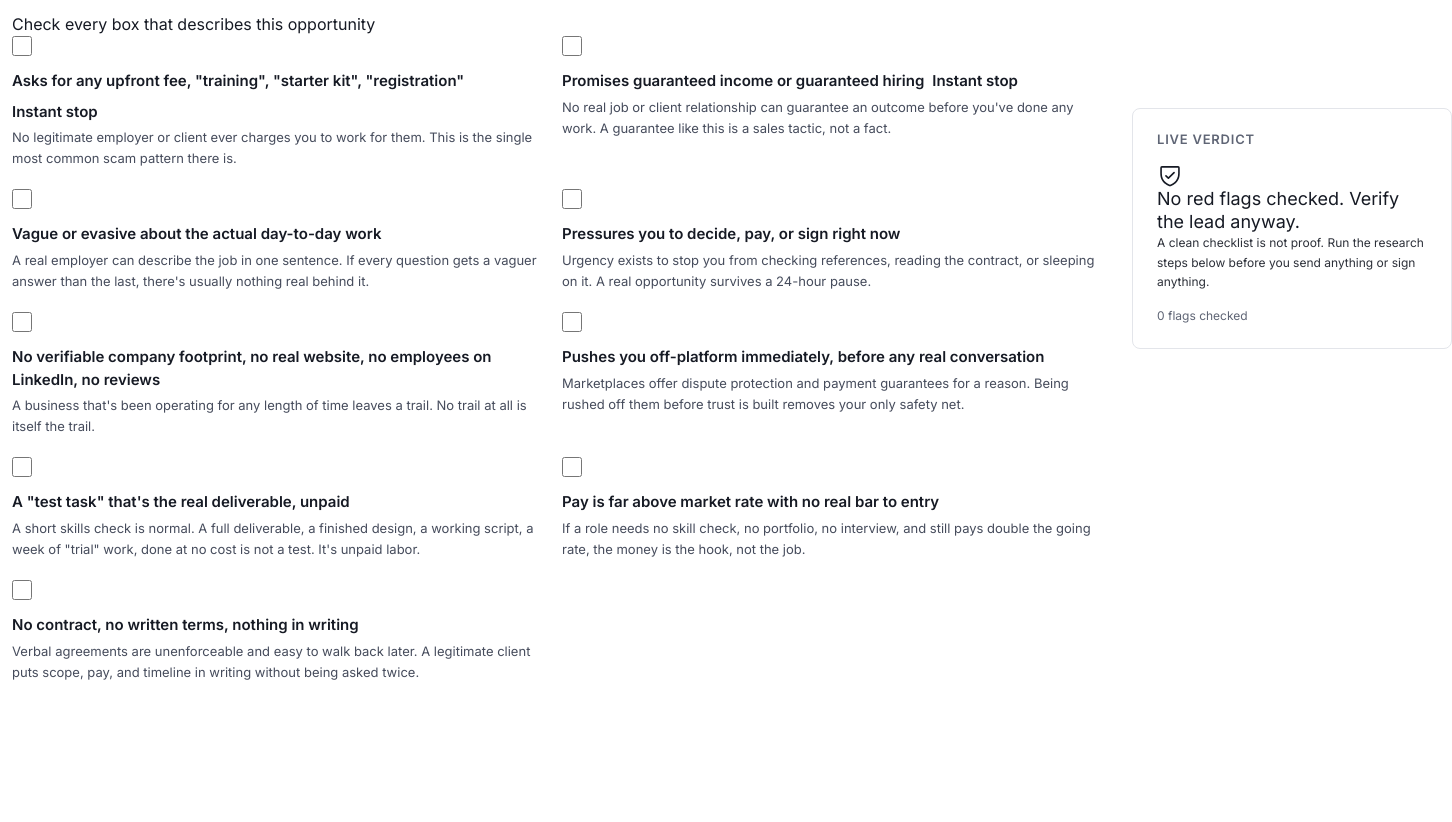
Test: VettingTool › starts clear and turns to a hard stop on an instant-stop flag
This screenshot has width=1452, height=822.
Expected: the text "No red flags checked. Verify the lead anyway." is shown, [1157,188,1427,233]
Click the 1st checkbox at (22, 46), box [12,36,32,56]
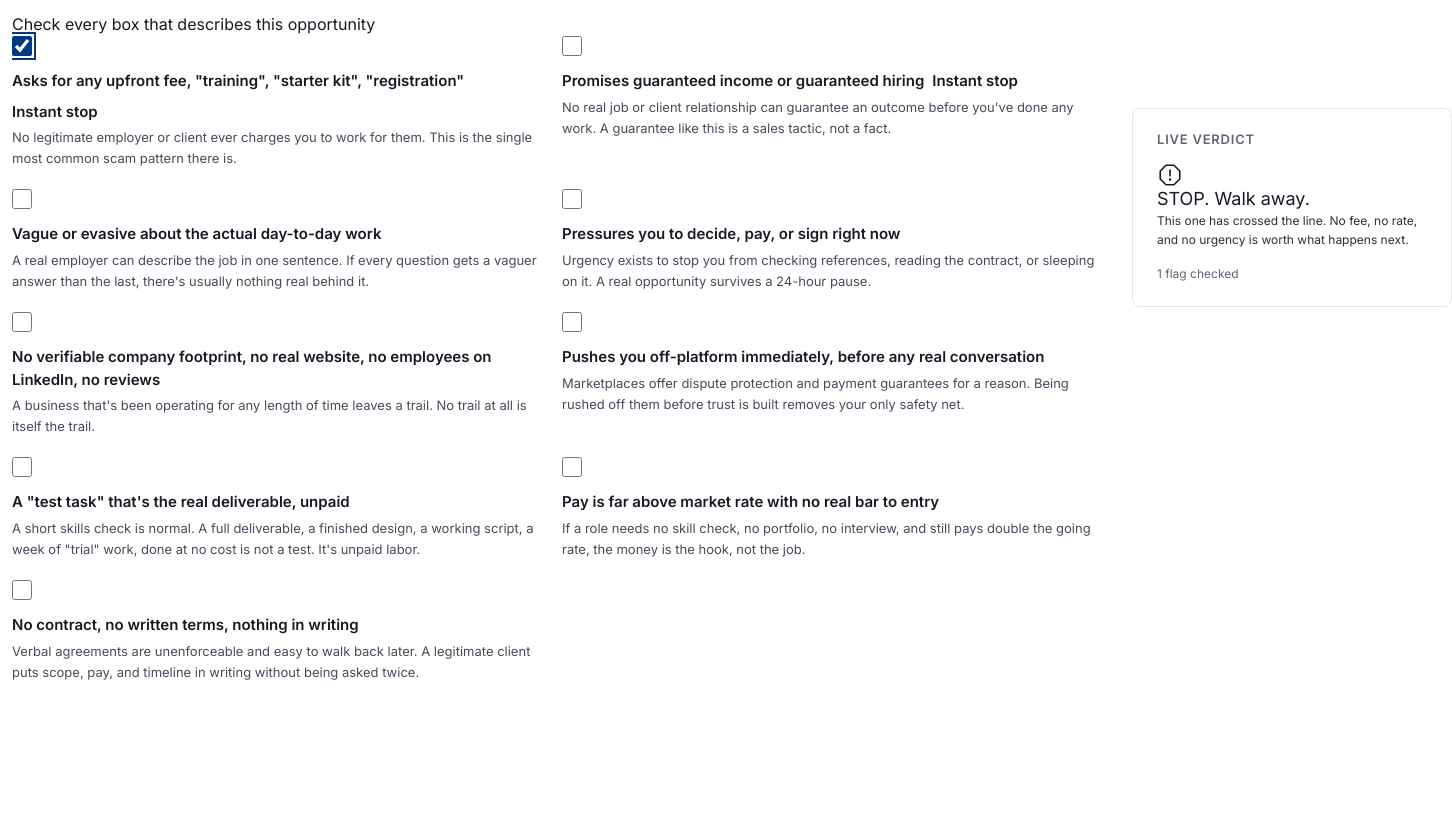
Expected: the text "STOP. Walk away." is shown, [1157,188,1310,209]
